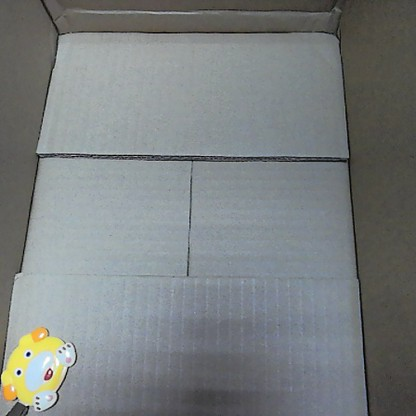dogclip: (1, 324, 76, 414)
